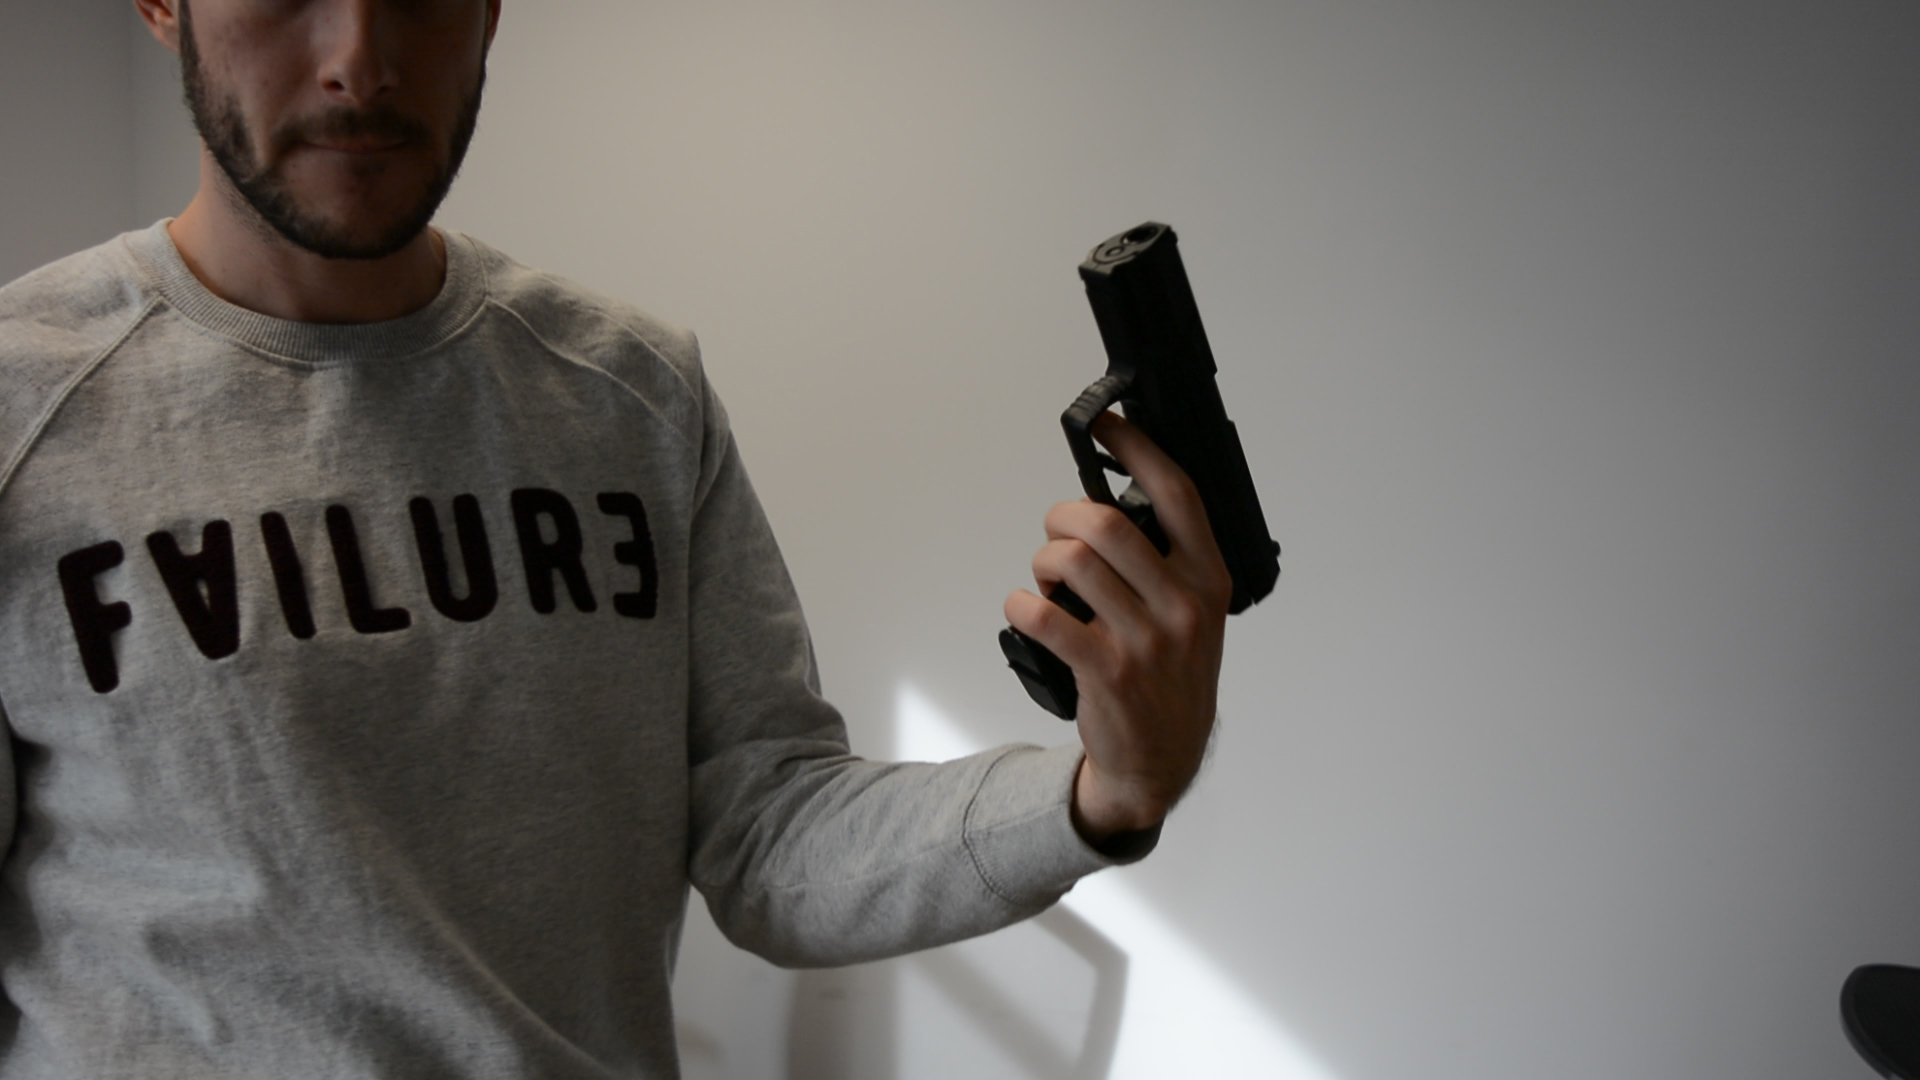pistol: (996, 219, 1284, 727)
